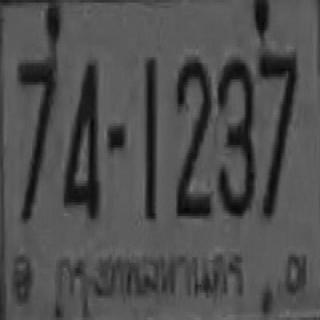N01: (143, 56, 154, 215)
N02: (174, 55, 210, 216)
N03: (215, 56, 254, 215)
N04: (62, 57, 98, 216)
N07: (15, 56, 55, 220), (258, 51, 296, 215), (258, 51, 296, 168)
P04: (51, 240, 248, 307)
